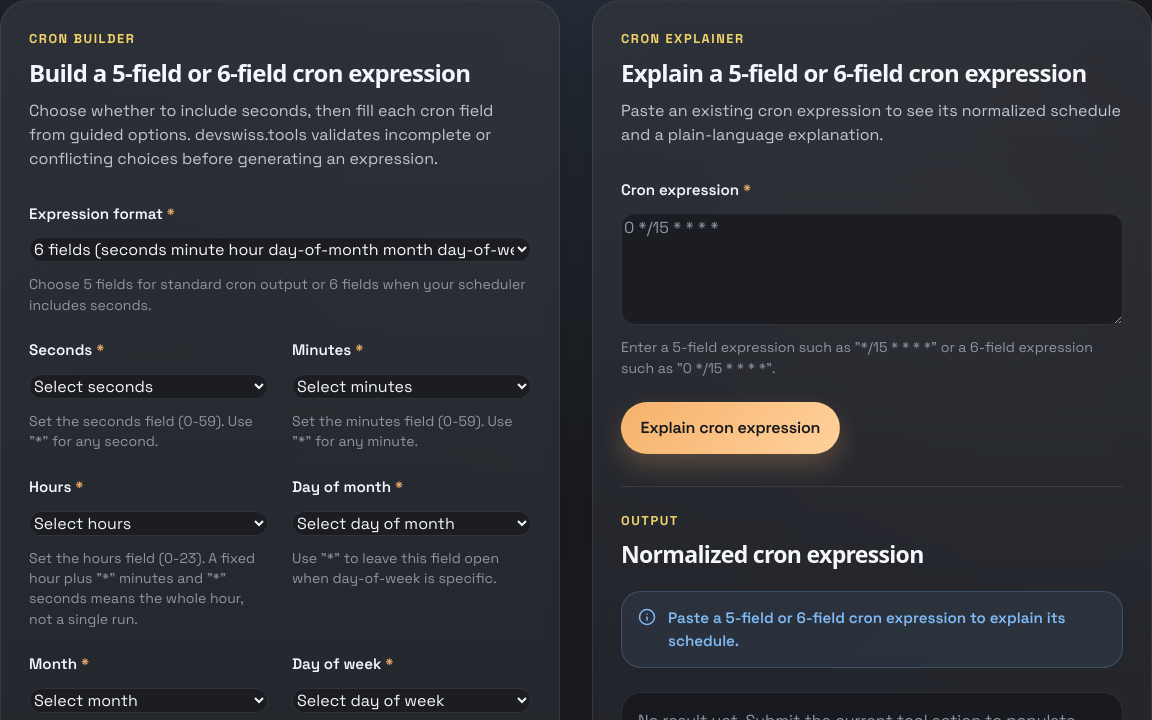
Test case: Cron tool flow › builds a six-field cron expression and readable summary from guided choices
The image size is (1152, 720).
Step 1. Select "Second 0" in the dropdown labelled "Seconds *" → (148, 386), box x1=29 y1=374 x2=268 y2=399
Step 2. Select "Every 15 minutes (*/15)" in the dropdown labelled "Minutes *" → (412, 386), box x1=292 y1=374 x2=531 y2=399
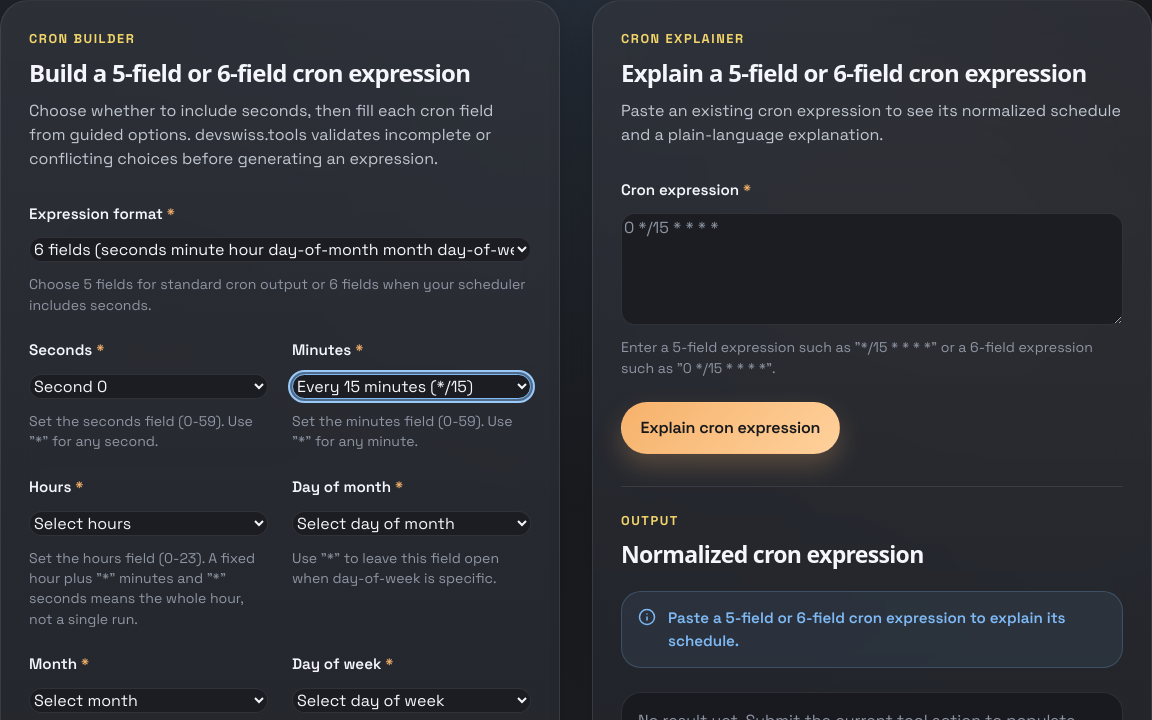
Step 3. Select "Any hour (*)" in the dropdown labelled "Hours *" → (148, 523), box x1=29 y1=511 x2=268 y2=536
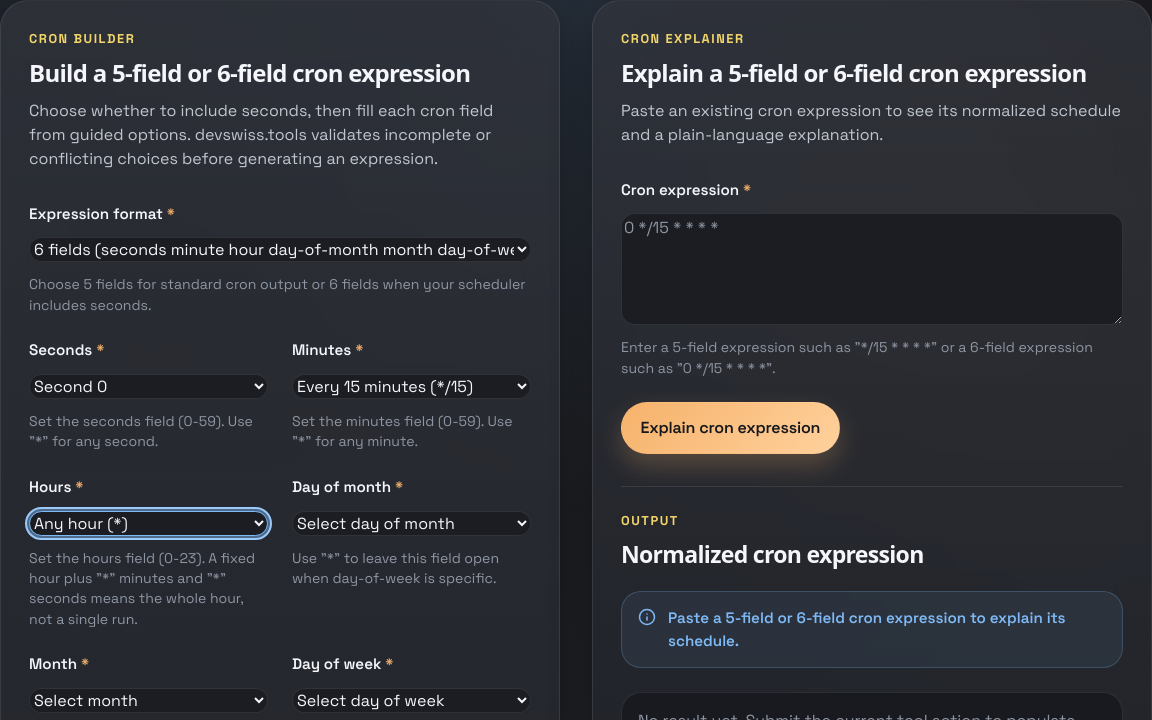
Step 4. Select "Any day of month (*)" in the dropdown labelled "Day of month *" → (412, 523), box x1=292 y1=511 x2=531 y2=536
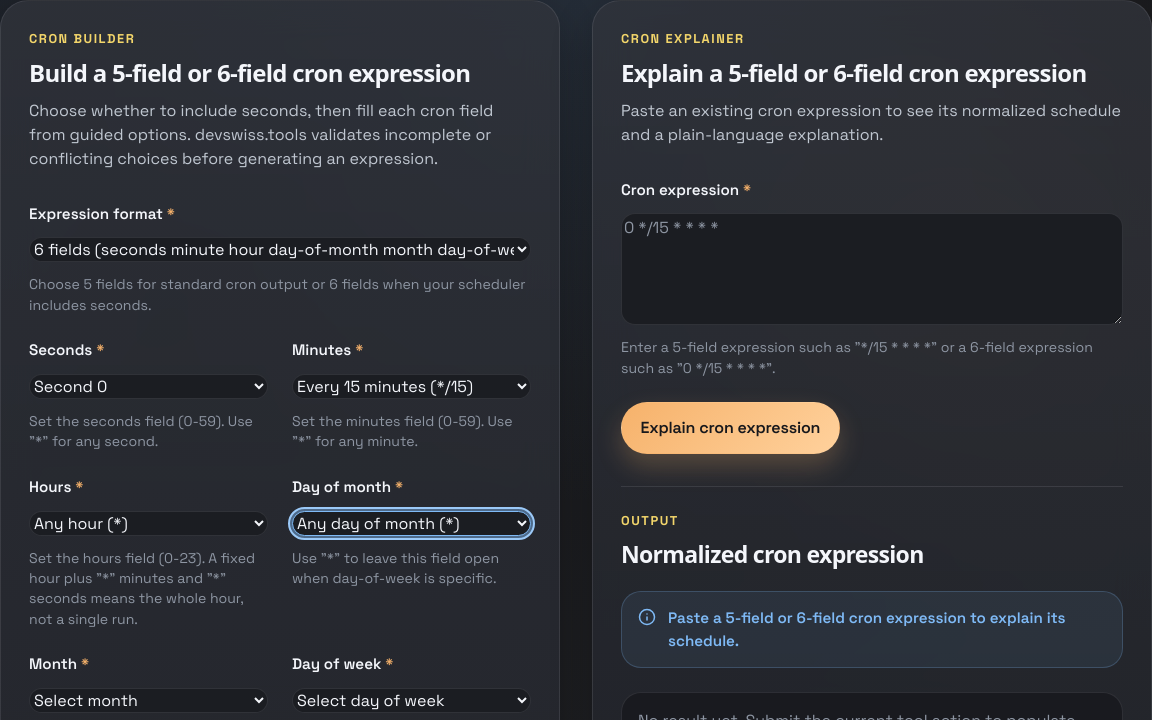
Step 5. Select "Any month (*)" in the dropdown labelled "Month *" → (148, 700), box x1=29 y1=688 x2=268 y2=713
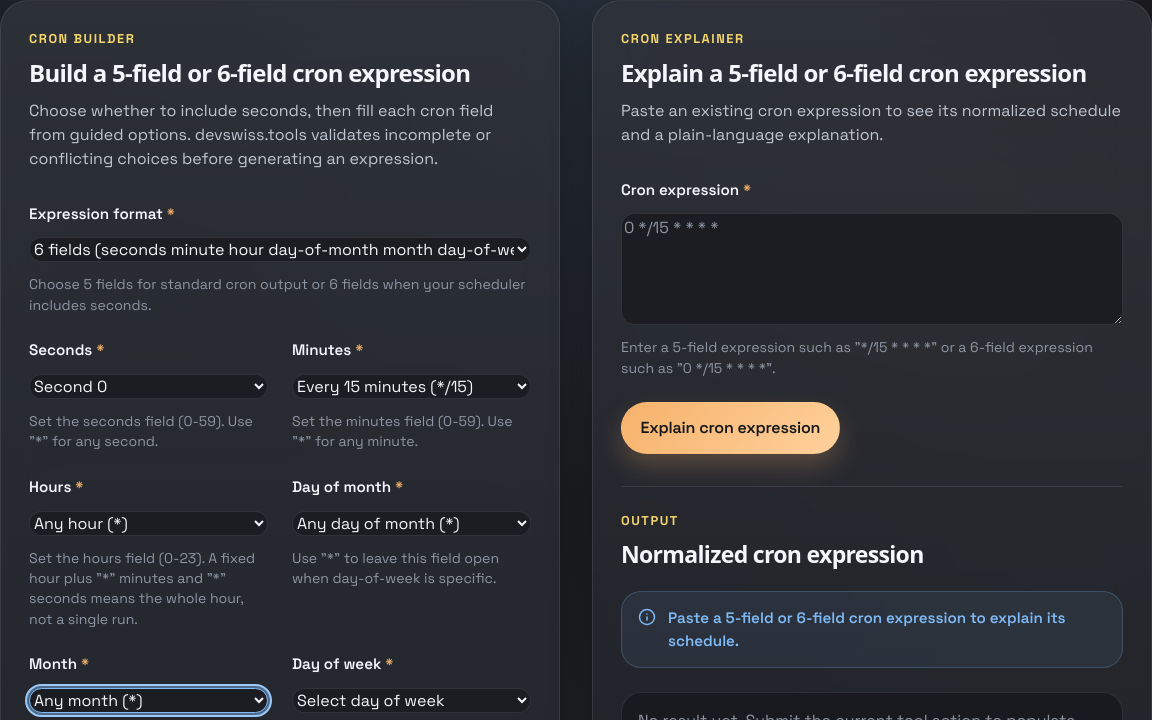
Step 6. Select "Any day of week (*)" in the dropdown labelled "Day of week *" → (412, 700), box x1=292 y1=688 x2=531 y2=713
(page scrolled)
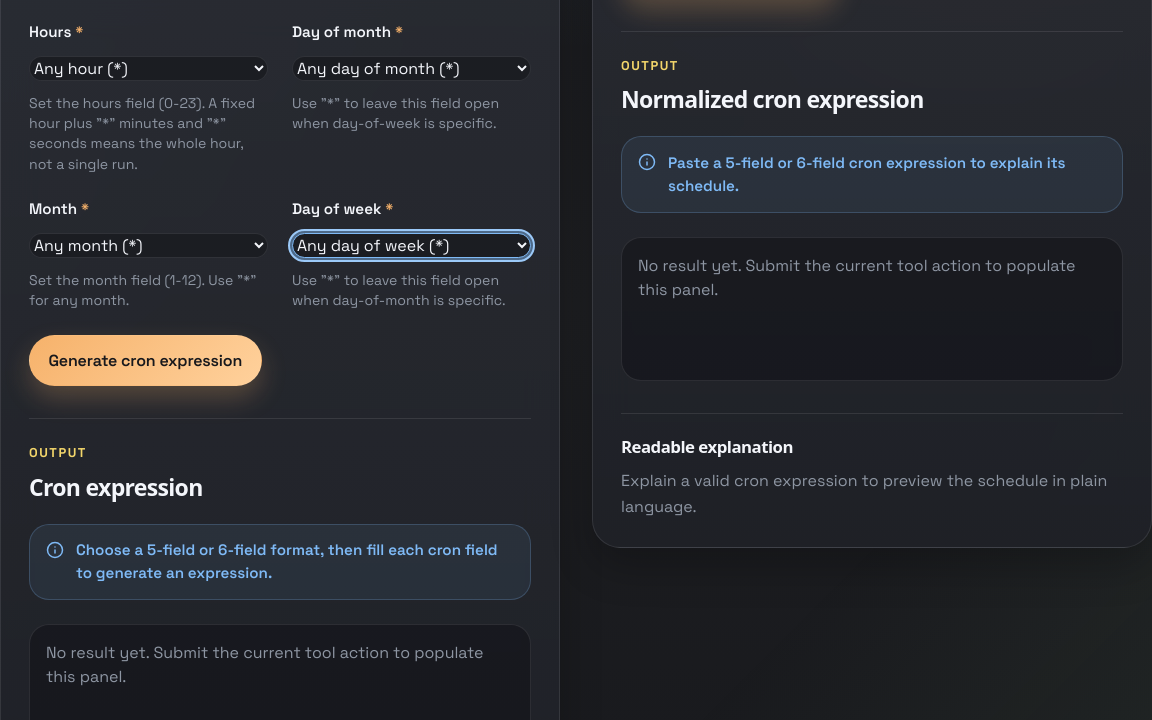
Step 7. Click the button "Generate cron expression" → (145, 361), box x1=29 y1=335 x2=262 y2=386
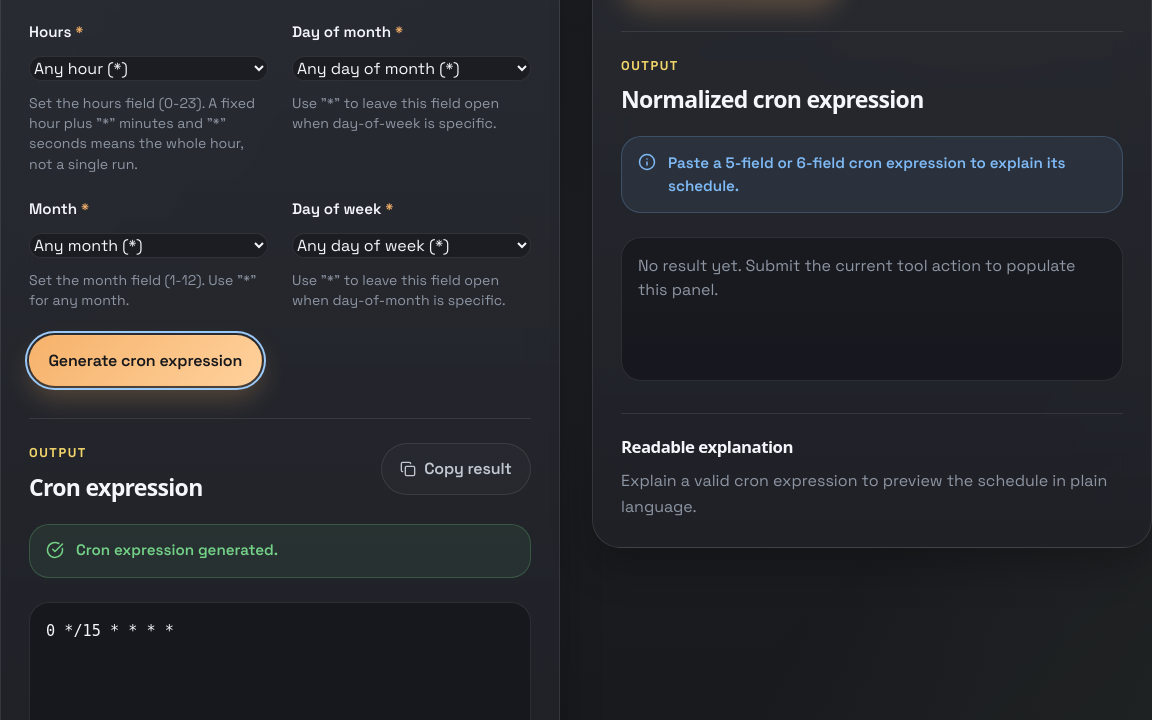
Now the text "Cron expression generated." is shown, box x1=76 y1=539 x2=278 y2=562
Now the text "0 */15 * * * *" is shown, box x1=46 y1=622 x2=174 y2=640
